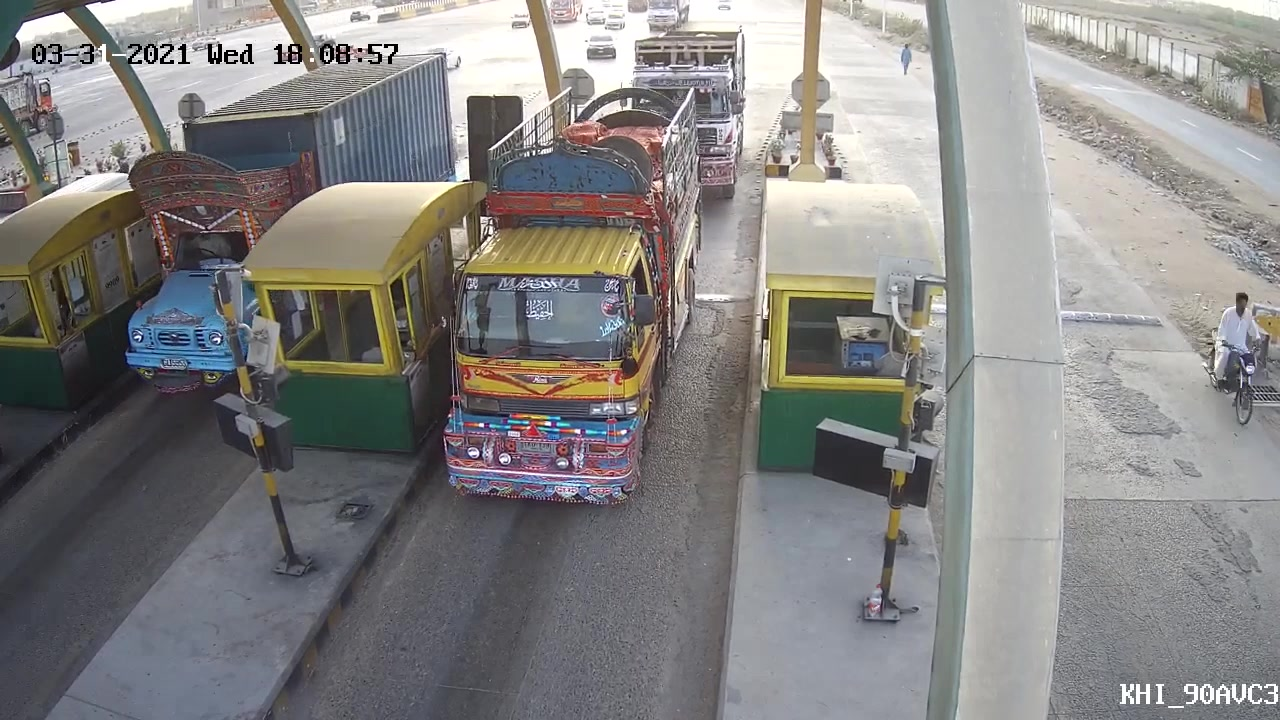F5: (445, 69, 713, 511)
